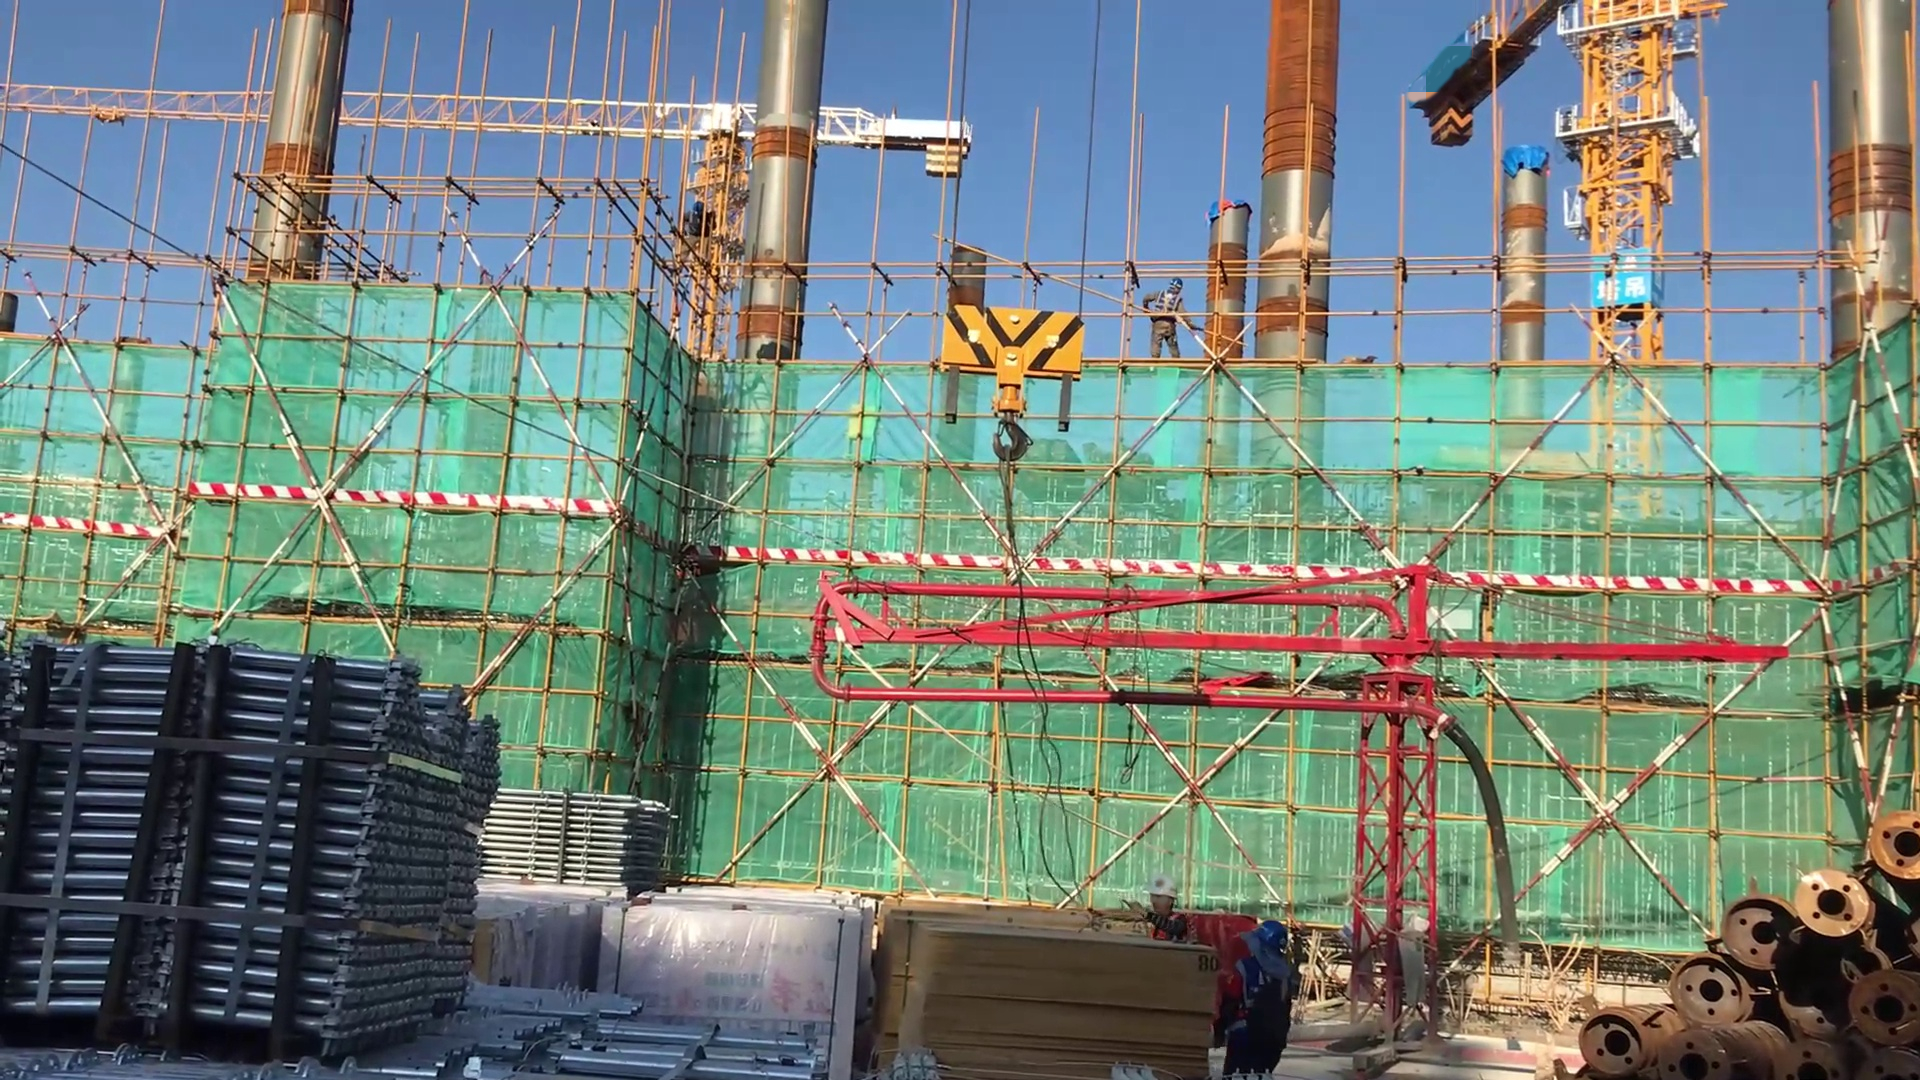board: (877, 899, 1220, 1080)
helmet: (1243, 914, 1294, 955), (1145, 876, 1181, 901), (1163, 276, 1188, 295)
hook: (927, 281, 1100, 478)
person: (1209, 911, 1315, 1080), (1084, 872, 1197, 946), (1137, 278, 1200, 369)
scaffold: (1, 635, 522, 1019), (408, 984, 852, 1080), (468, 798, 684, 884)
slogan: (1597, 246, 1669, 309)
vest: (1224, 954, 1294, 1053), (1146, 915, 1191, 944), (1151, 289, 1179, 326)
